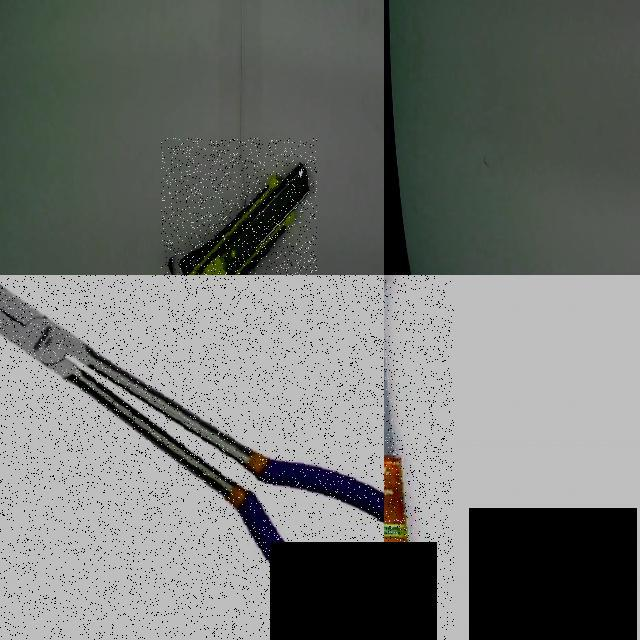estilete: (170, 163, 308, 274)
